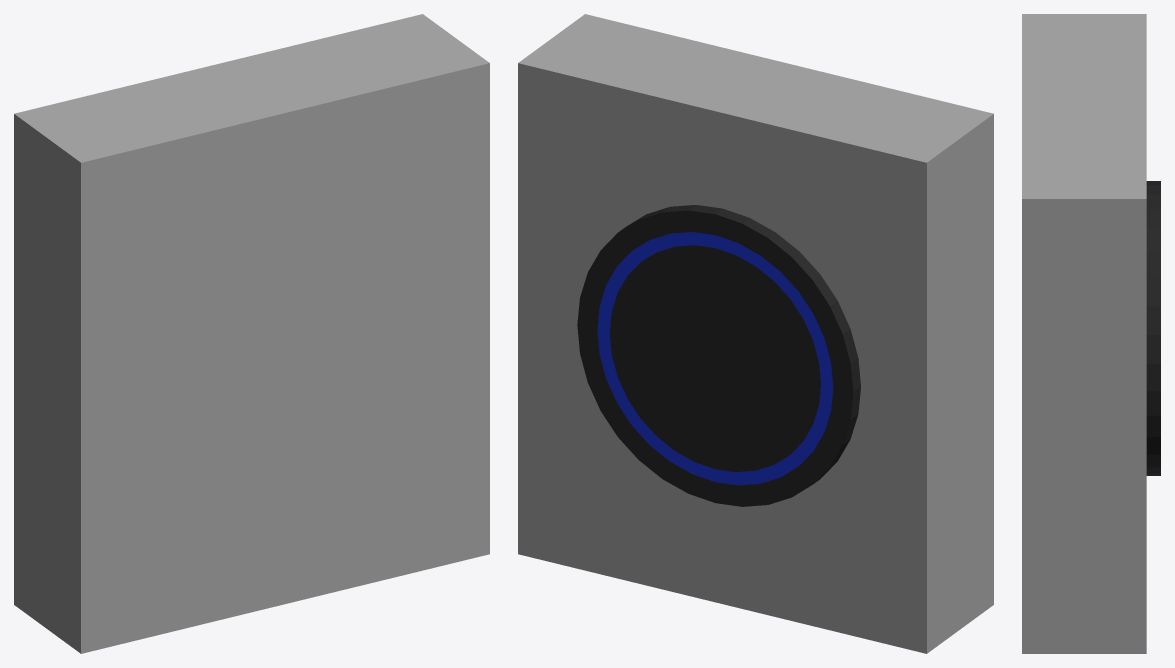
The model's file is sensor pintu.fbx.
3 views of the same model, side by side, from view 1: azimuth 30°, elevation 25°; view 2: azimuth 150°, elevation 25°; view 3: azimuth 270°, elevation 25° (orthographic). The views are drawn at different scales.
Parts seen in each view (by area): view 1: Cylinder.002; view 2: Cylinder.002, light sensor pintu; view 3: Cylinder.002.
Boxes of the visible parts, bbox=[...] form: Cylinder.002: bbox=[14, 14, 489, 653]; Cylinder.002: bbox=[518, 14, 993, 653]; light sensor pintu: bbox=[597, 232, 833, 485]; Cylinder.002: bbox=[1022, 14, 1160, 653].
Size of the model in its own units: 19.08 by 21.9 by 6.05.
